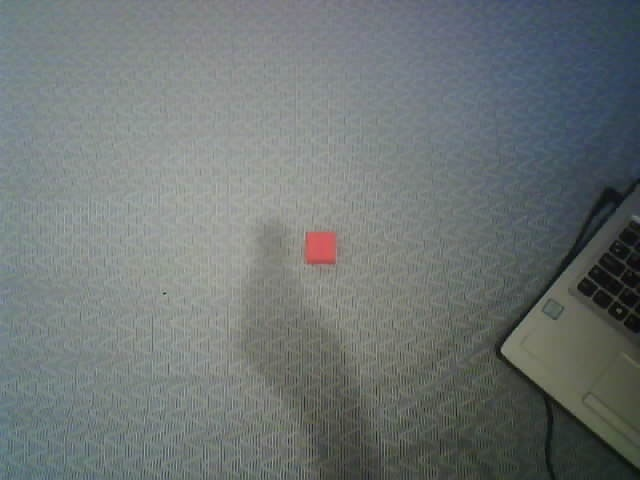lego: (304, 231, 338, 265)
